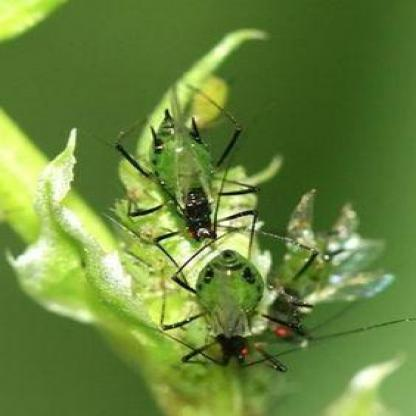aphid: (145, 230, 318, 384), (255, 206, 383, 357), (121, 108, 254, 240)
